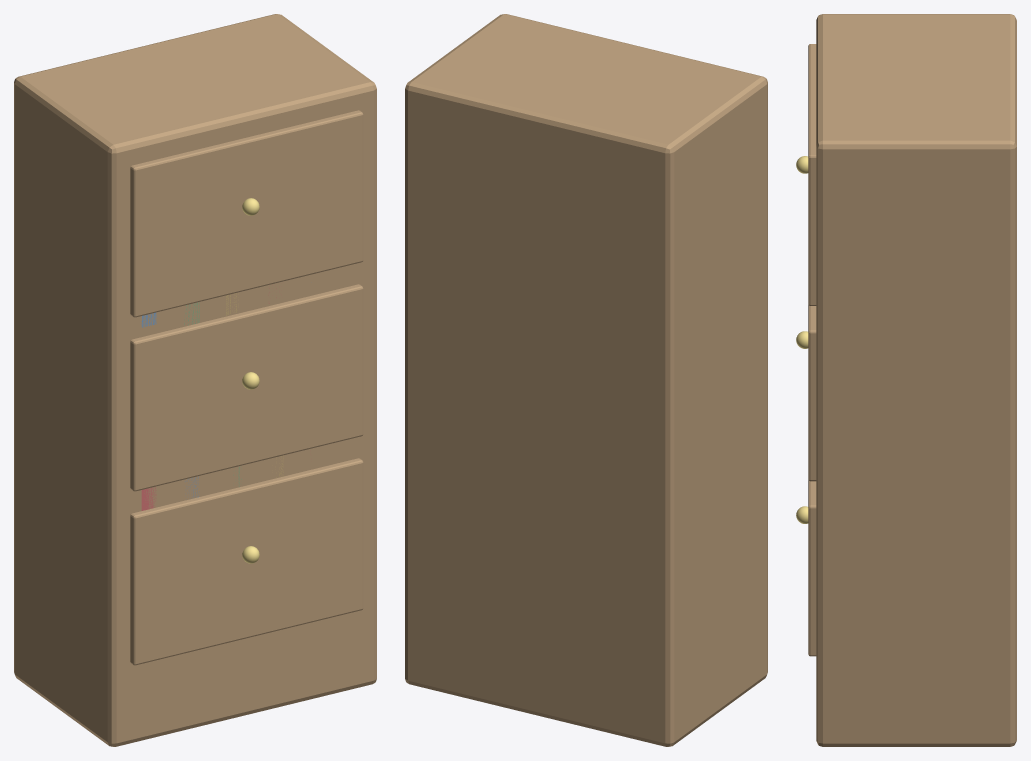
The model's file is bookcase.glb.
3 renders of one model, left to right at view 1: azimuth 30°, elevation 25°; view 2: azimuth 150°, elevation 25°; view 3: azimuth 270°, elevation 25°, orthographic.
Parts seen in each view (by area): view 1: bookcase; view 2: bookcase; view 3: bookcase.
Part boxes in pixels (x1,y1,x2,y2): bookcase: (14, 14, 376, 746); bookcase: (405, 14, 767, 746); bookcase: (796, 14, 1016, 746).
Size of the model in its own units: 1.4 by 3 by 0.99.
